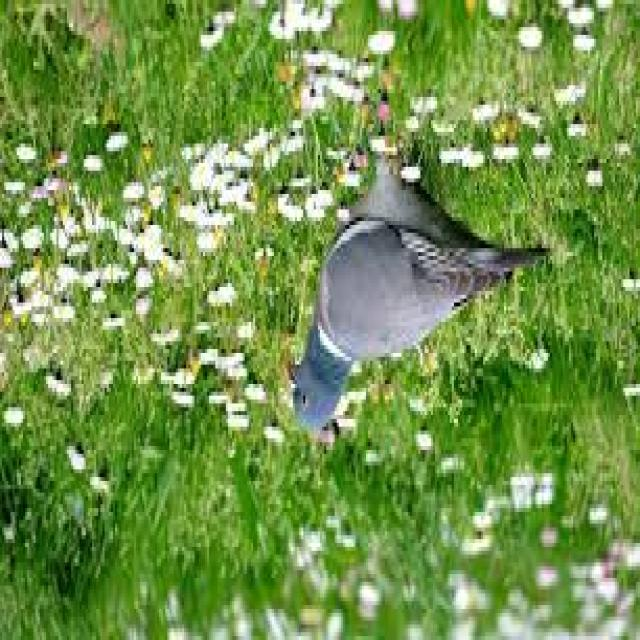pigeon: (279, 120, 562, 440)
